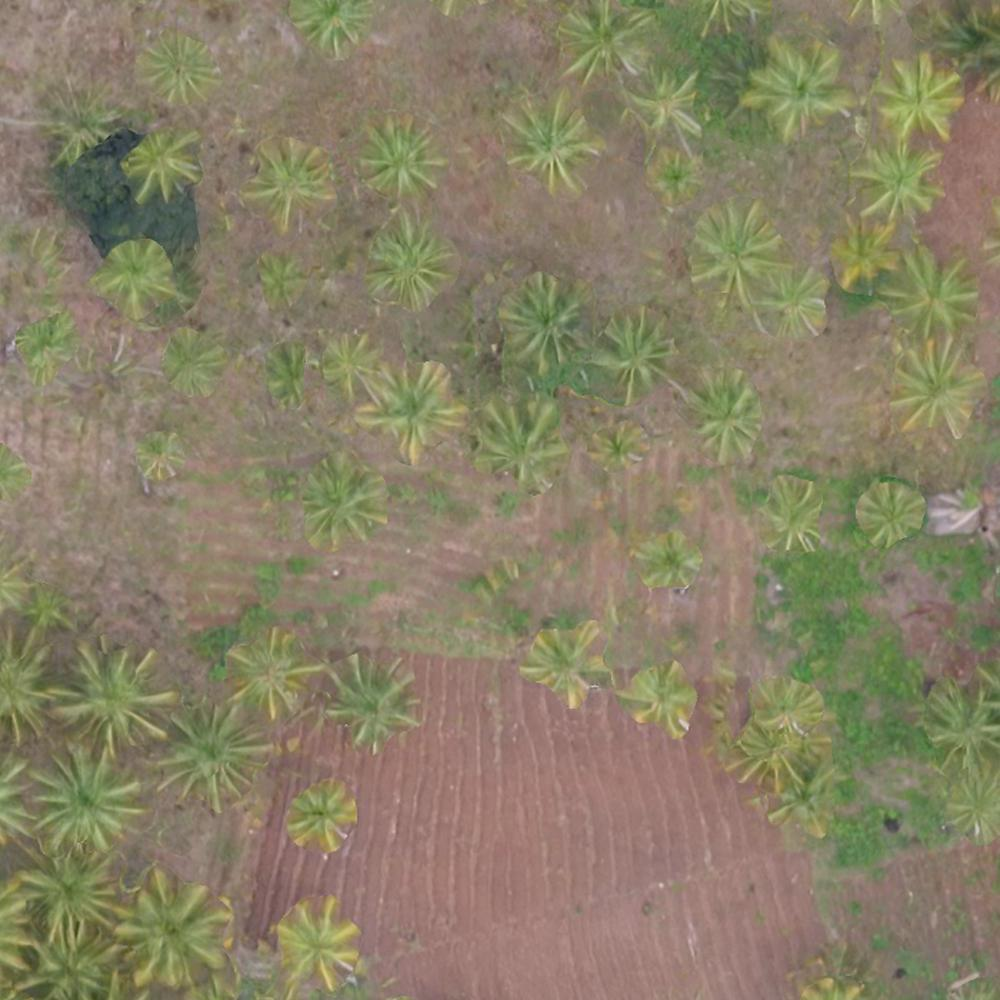Palm: (54, 646, 168, 748), (120, 873, 224, 980), (29, 748, 135, 848), (749, 35, 848, 140), (161, 707, 263, 805), (20, 850, 128, 938), (472, 392, 569, 489), (363, 362, 459, 456), (502, 97, 594, 192), (693, 205, 781, 298), (555, 1, 655, 82), (245, 139, 333, 228), (274, 899, 360, 990), (329, 659, 418, 745), (366, 215, 453, 302), (886, 248, 976, 332), (894, 338, 976, 430), (222, 632, 312, 715), (855, 144, 946, 219), (880, 59, 963, 140), (303, 459, 386, 539), (502, 283, 586, 362), (918, 681, 1000, 761), (597, 312, 676, 392), (688, 380, 766, 460), (362, 122, 445, 196), (758, 268, 828, 344), (827, 213, 901, 284), (140, 35, 214, 105), (531, 626, 603, 697), (129, 130, 202, 199), (99, 241, 174, 307), (286, 785, 357, 854), (628, 68, 700, 136), (757, 483, 824, 552), (635, 526, 702, 591), (630, 665, 697, 728), (160, 332, 218, 402), (858, 483, 922, 544), (946, 768, 1000, 839), (322, 332, 379, 394), (590, 419, 648, 475), (645, 147, 699, 198), (131, 431, 182, 482)
